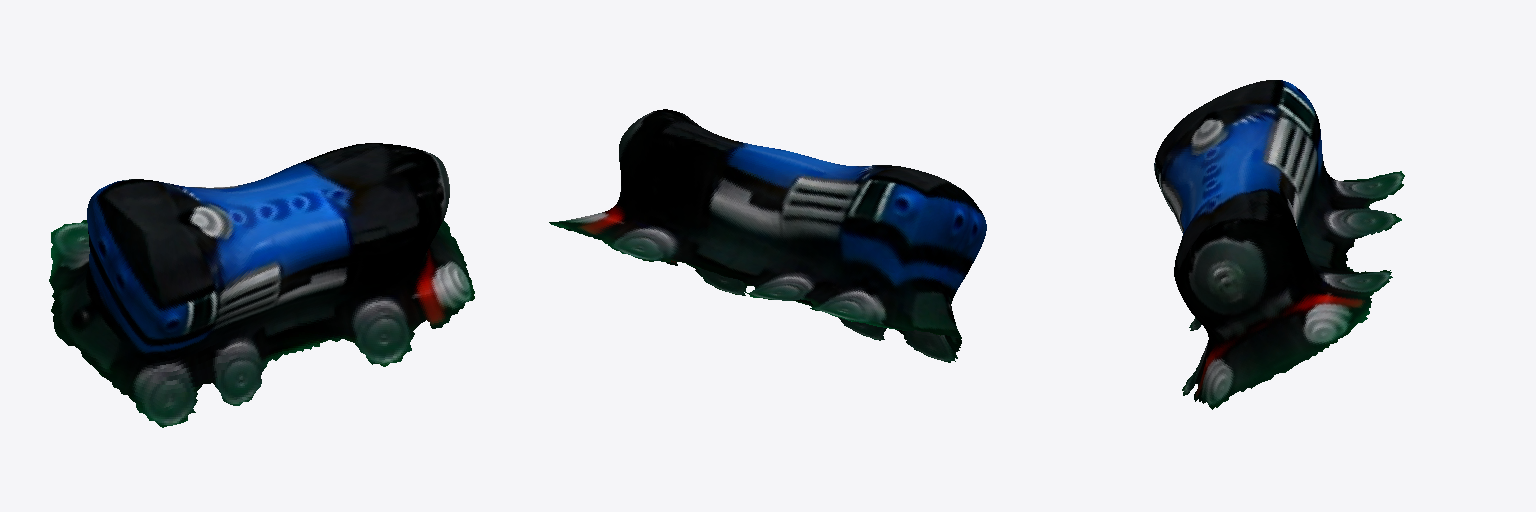
3 views of the same model, side by side, from view 1: azimuth 30°, elevation 25°; view 2: azimuth 150°, elevation 25°; view 3: azimuth 270°, elevation 25° (orthographic).
Size of the model in its own units: 1.31 by 0.6744 by 0.7259.
1 materials, 1 textured.